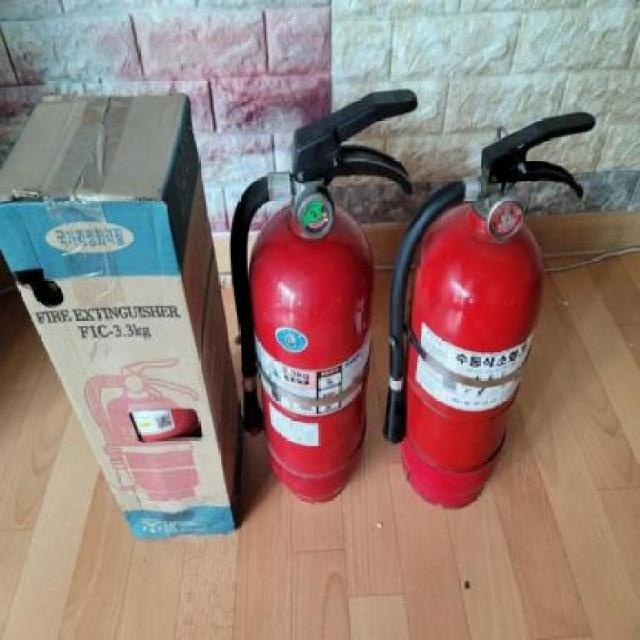fire extinguisher: (382, 111, 596, 512), (230, 87, 419, 505)
